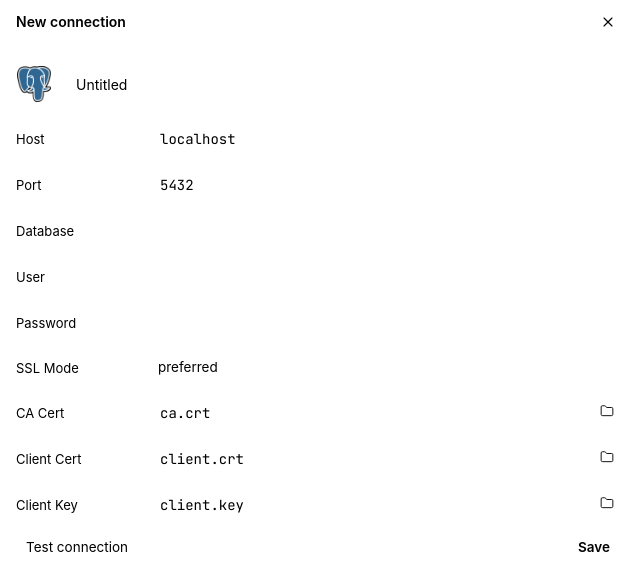
ConnectionRequestPage › explains a cancelled or expired request on 409
Click the button "Save": (594, 547) x1=568 y1=534 x2=620 y2=560
(page scrolled)
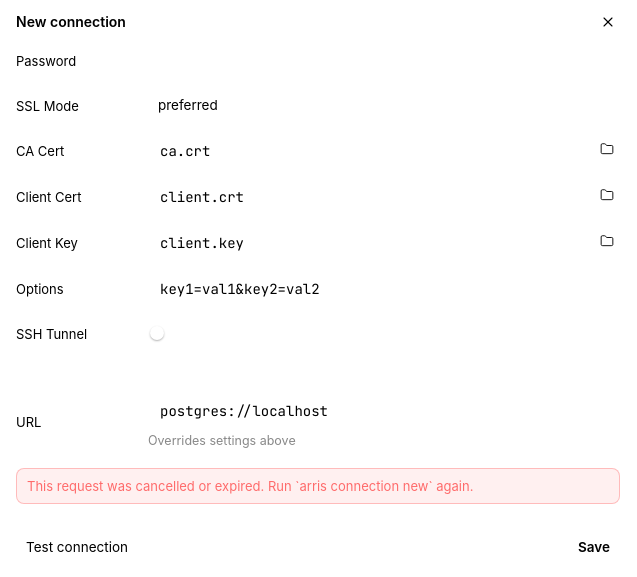
Expected: the text "This request was cancelled or expired. Run `arris connection new` again." is shown, x1=16 y1=468 x2=620 y2=504
